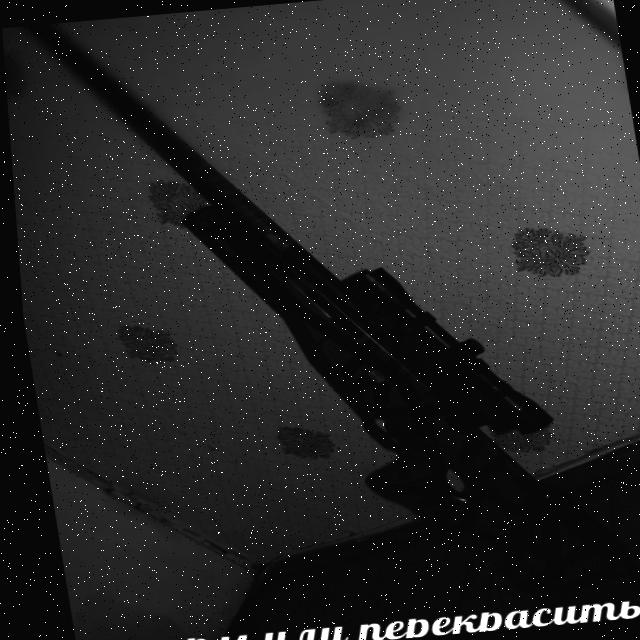firearm: (14, 0, 624, 633)
